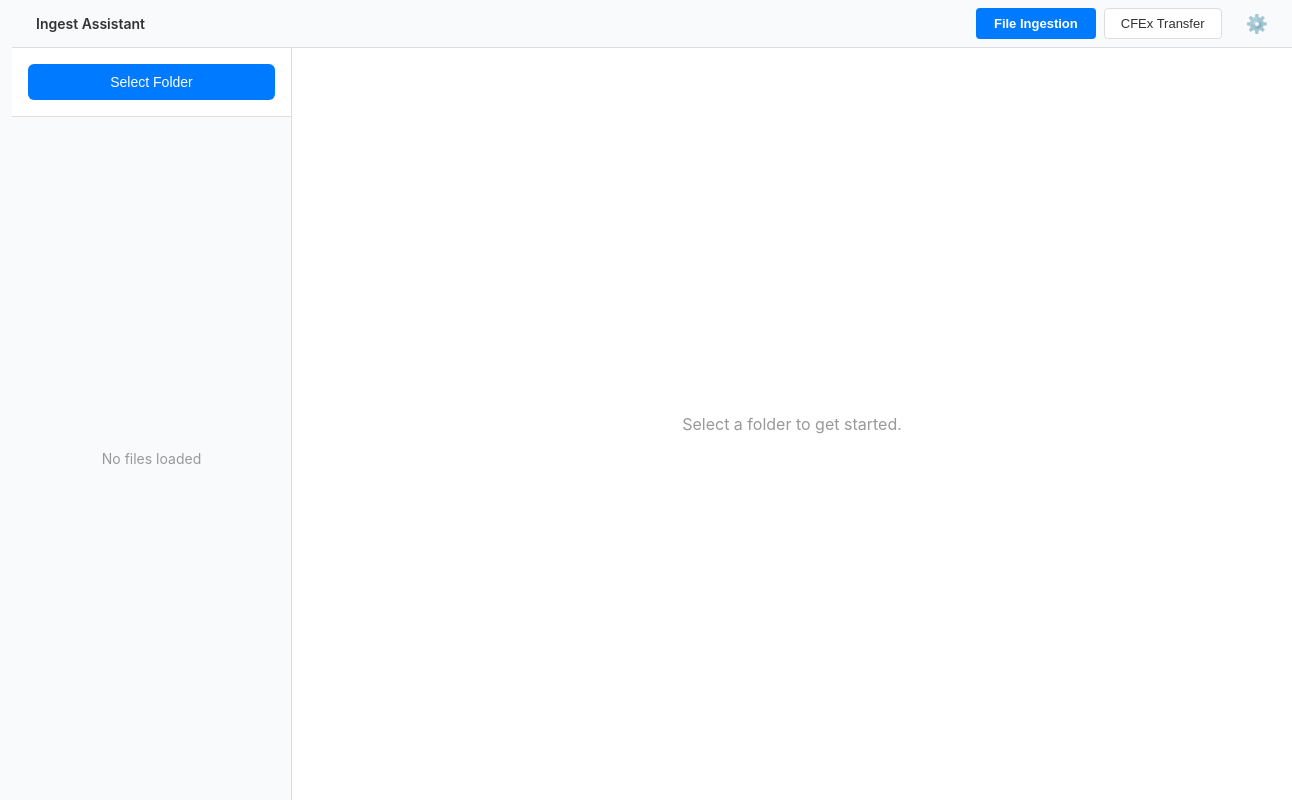
Scenario: Action Field Feature › Test 1: Action field rendering › should disable action field when photo is selected
Click the button "Select Folder".
click(152, 82)  # box [28,64,275,100]
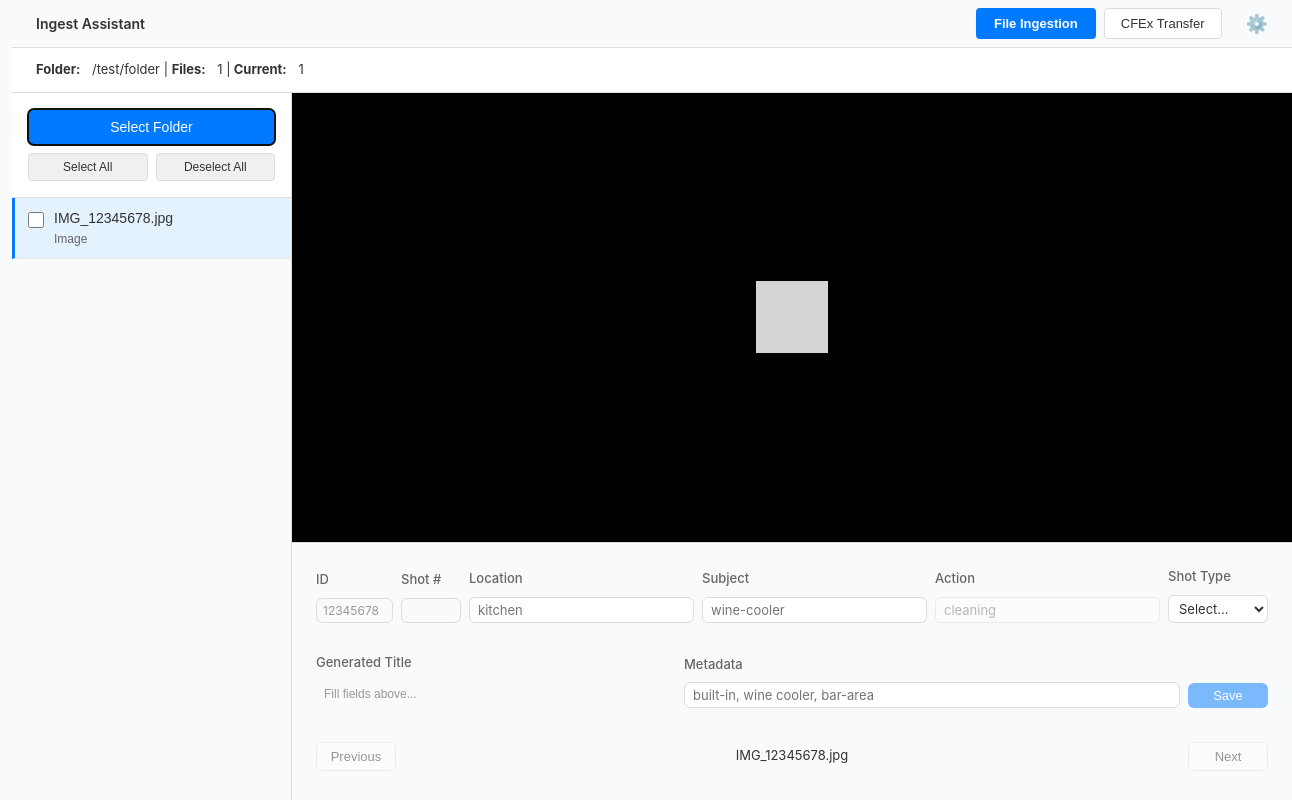
Expected: the field with placeholder "cleaning" is disabled, [935,596,1160,622]
